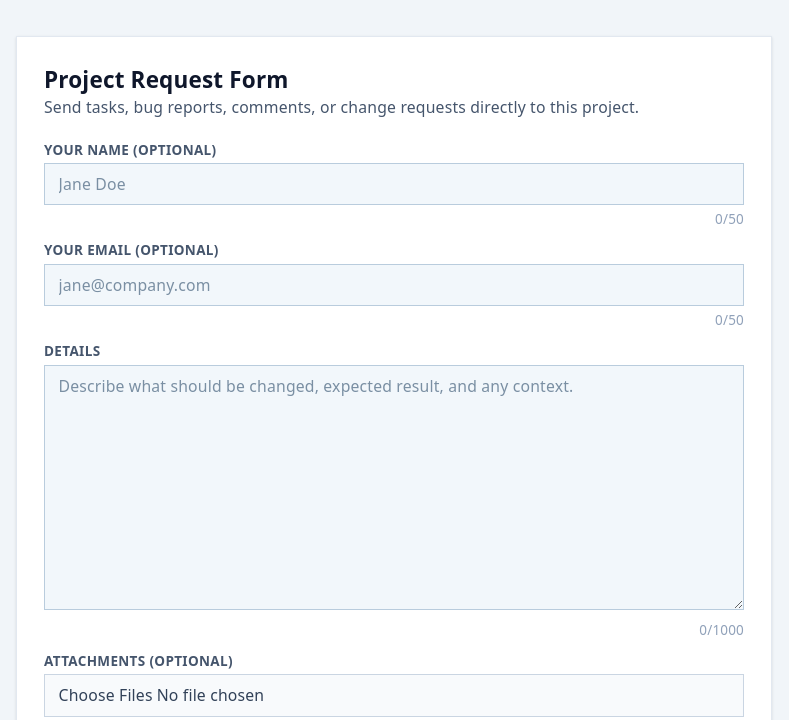
Test case: ClientIntakePage › shows server error when submit fails
Replace the text in the text box labelled "Details 0/1000" with "Profile image gets cut off when saving in Safari browser." at (394, 487), box x1=44 y1=365 x2=744 y2=610
(page scrolled)
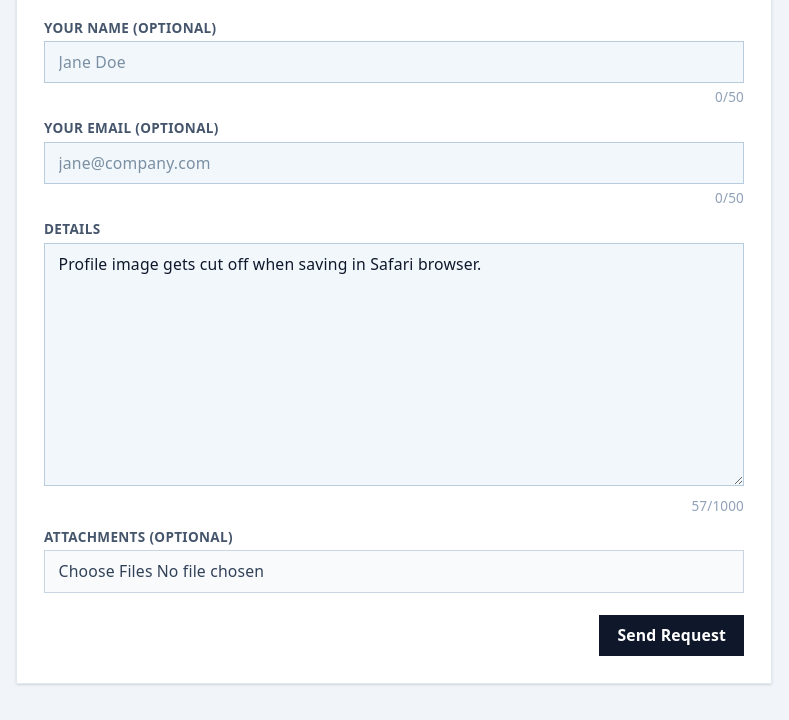
Click the button "Send Request".
click(672, 636)  # box x1=599 y1=616 x2=744 y2=656
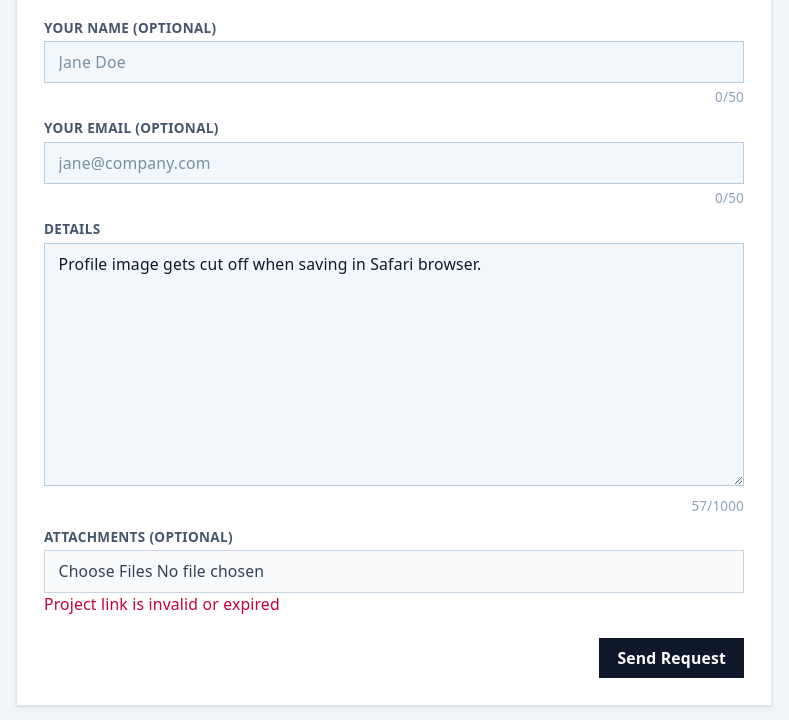
Expected: the text "Project link is invalid or expired" is shown, x1=44 y1=593 x2=280 y2=615
